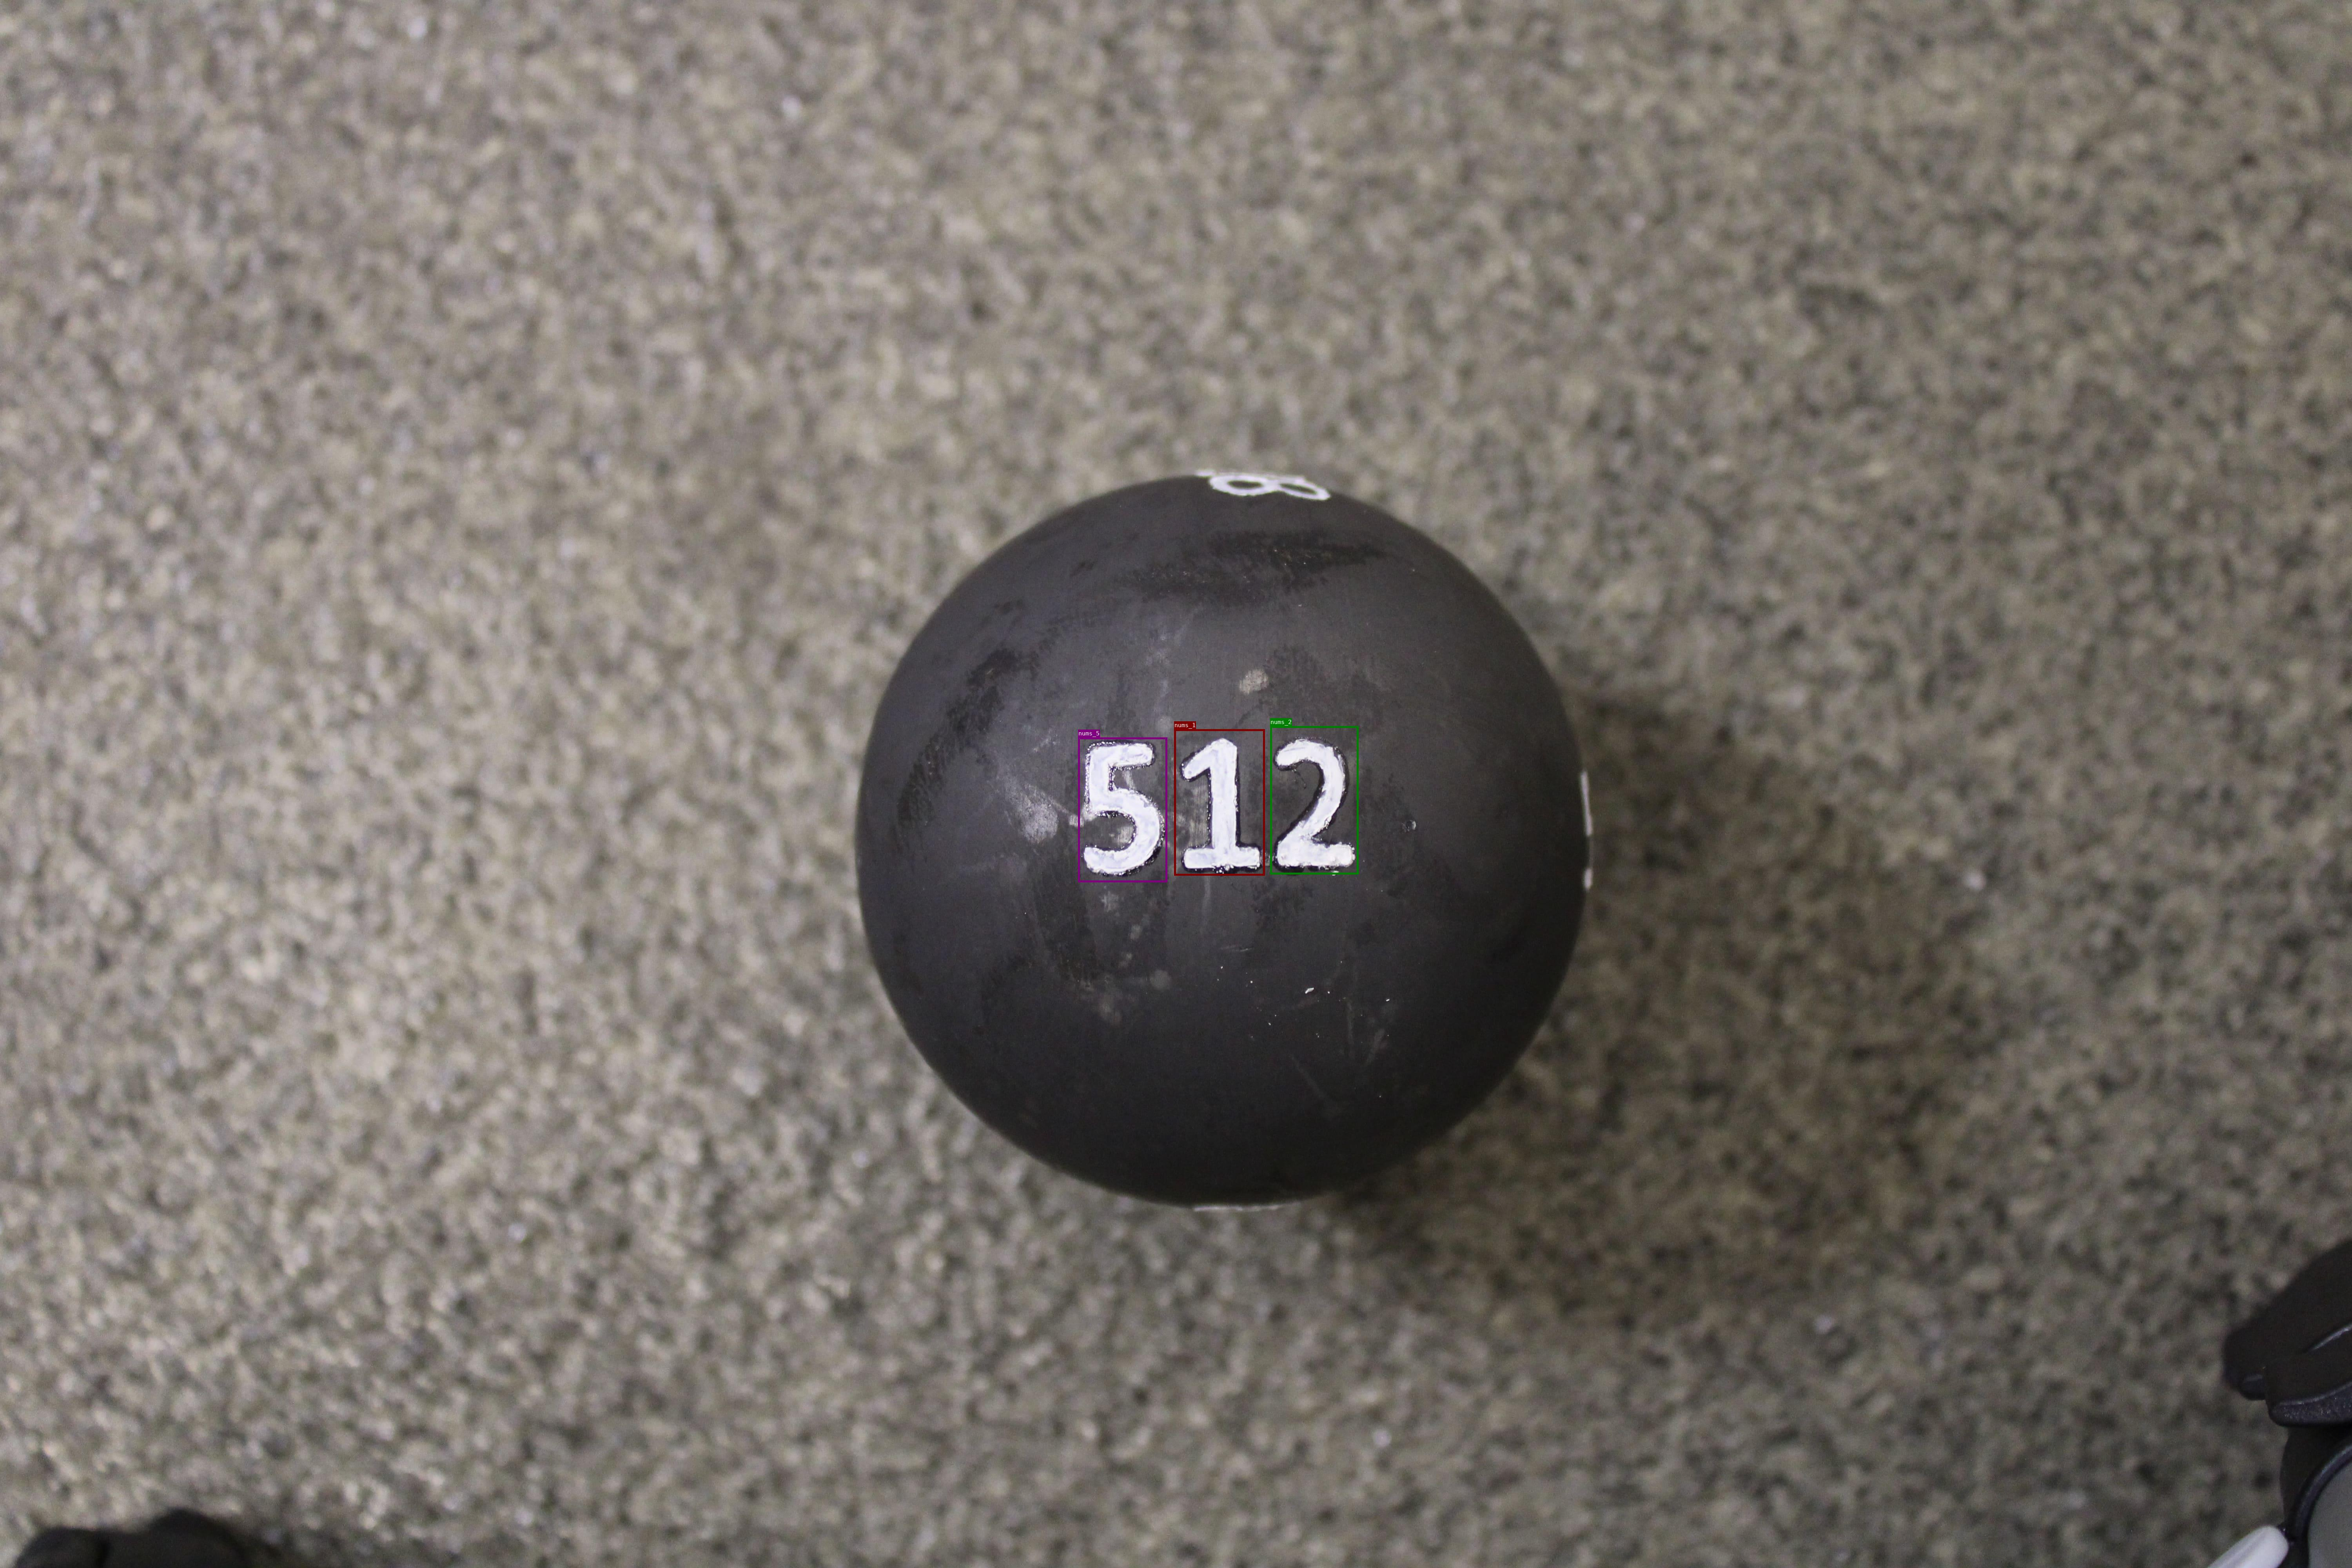nums_1: (1174, 730, 1265, 875)
nums_2: (1270, 726, 1358, 875)
nums_5: (1078, 737, 1167, 882)
